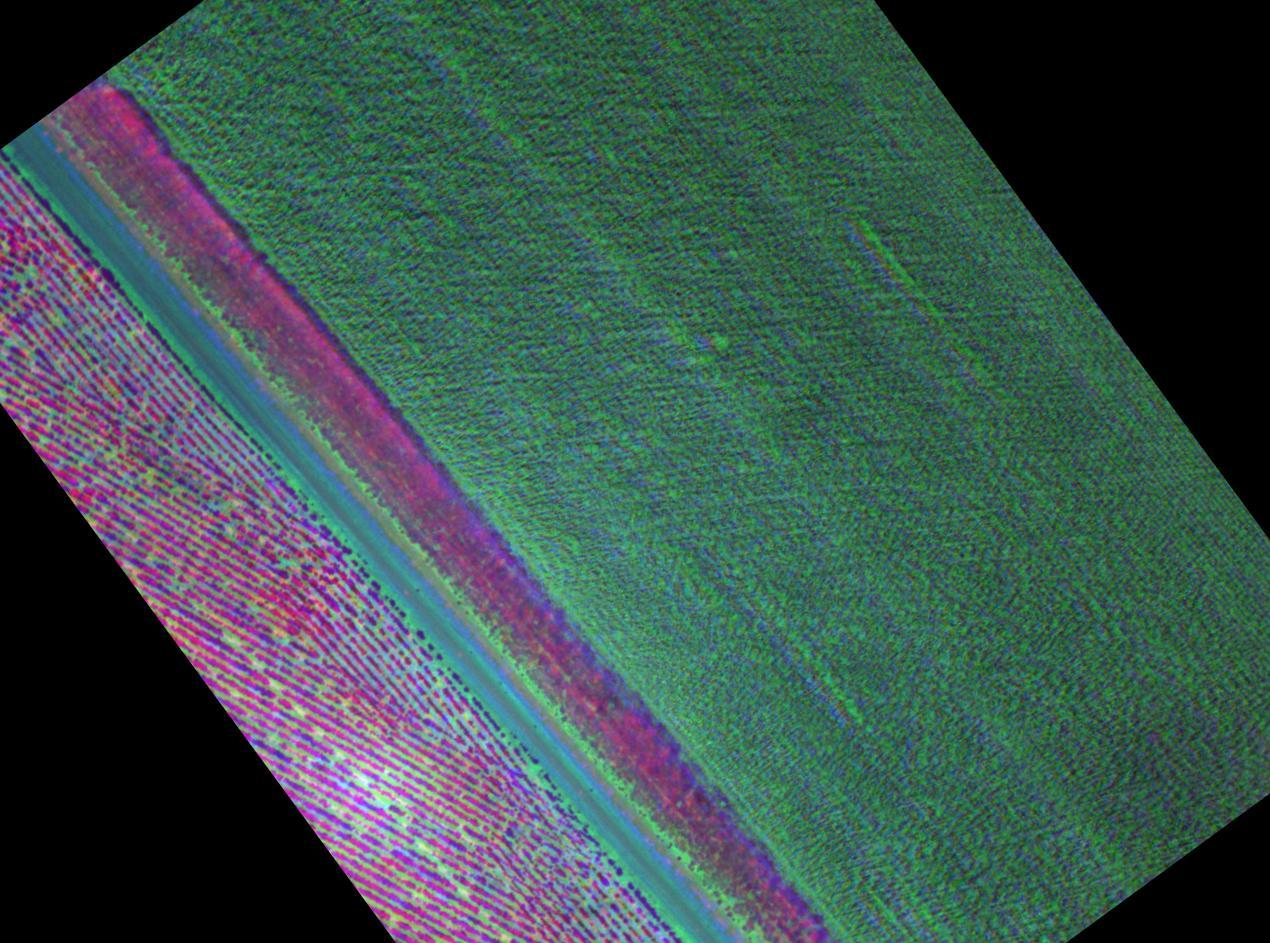dc: (226, 635, 234, 643), (223, 501, 230, 507), (529, 771, 535, 778), (381, 799, 387, 805), (620, 879, 625, 885), (28, 268, 33, 273), (110, 453, 115, 458), (408, 667, 412, 671)
